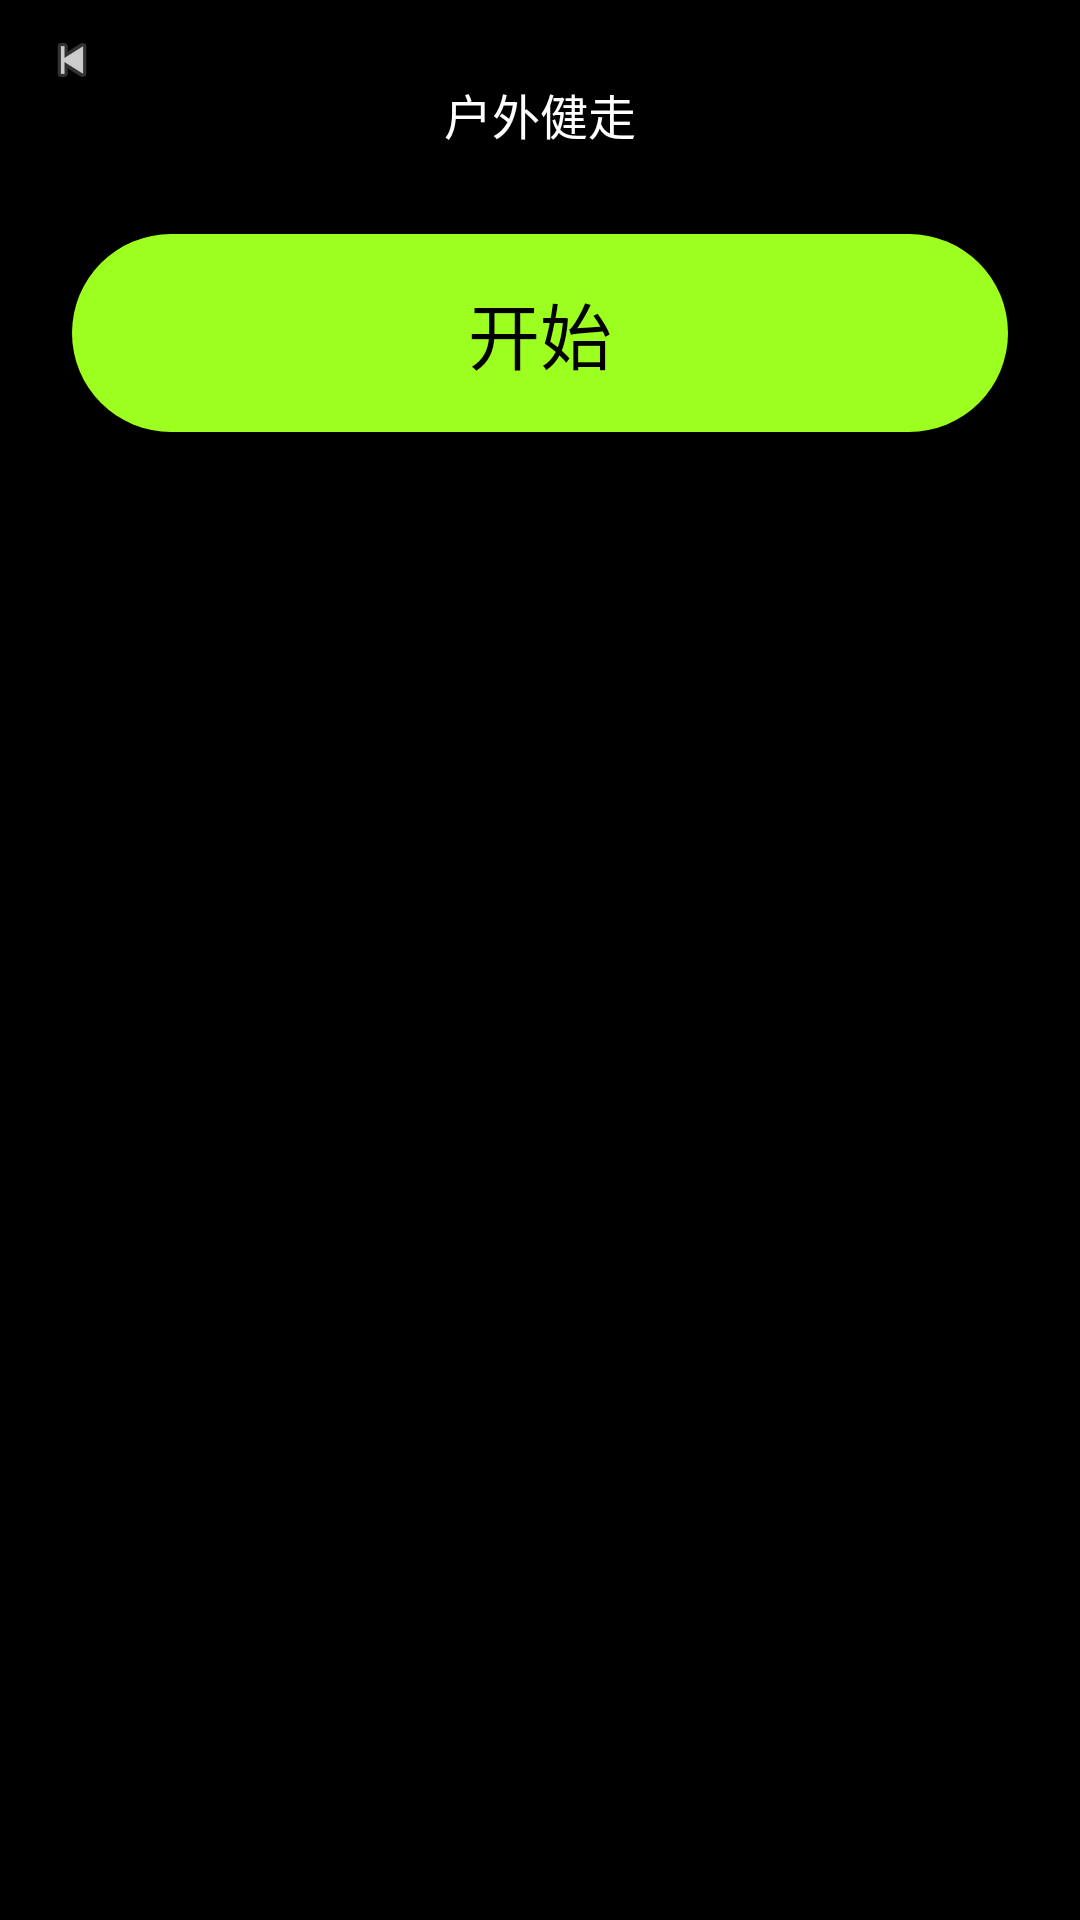

Icon bounding boxes for this 1080×1920 phone screenshot, format (x1, y1, x2, y2):
previous: (58, 43, 86, 77)
